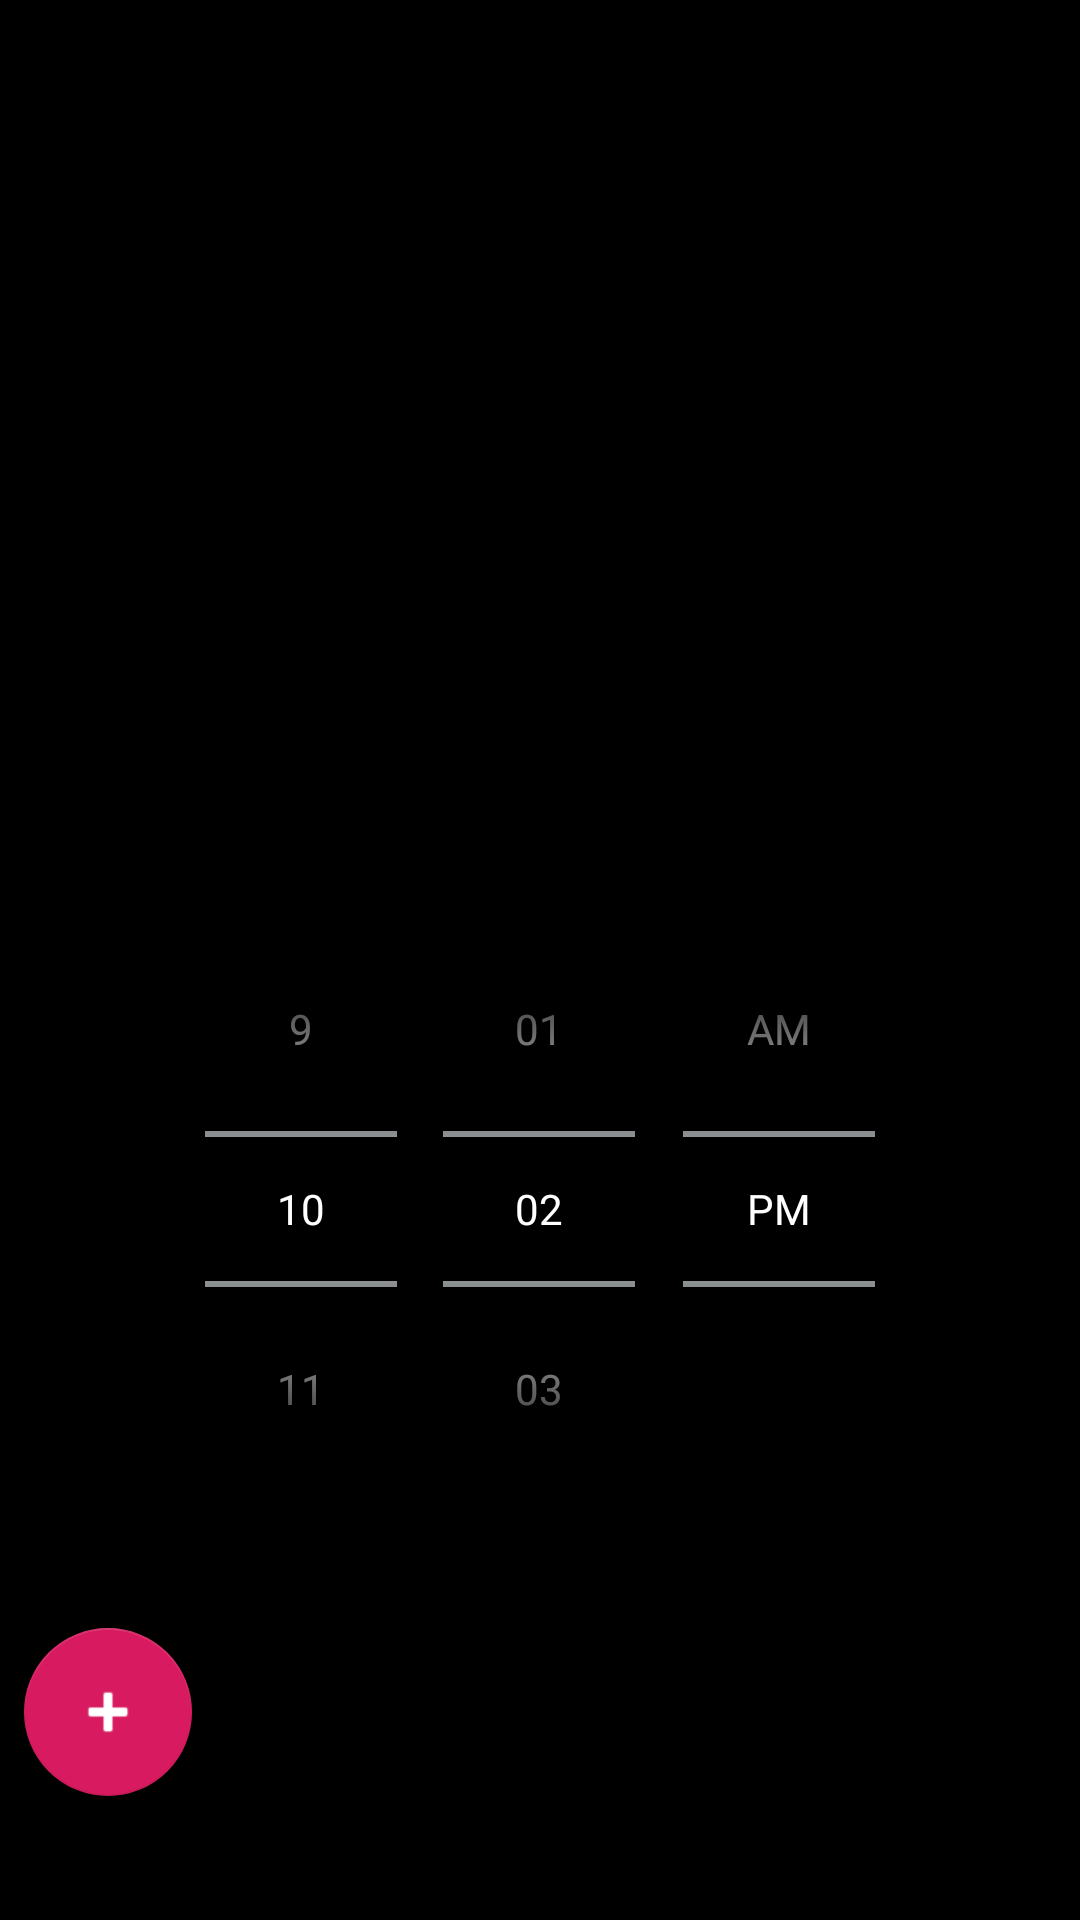

Screen size 1080px x 1920px. Icon name, then its center in pixels as (x=x, y=y):
add: (x=108, y=1712)
